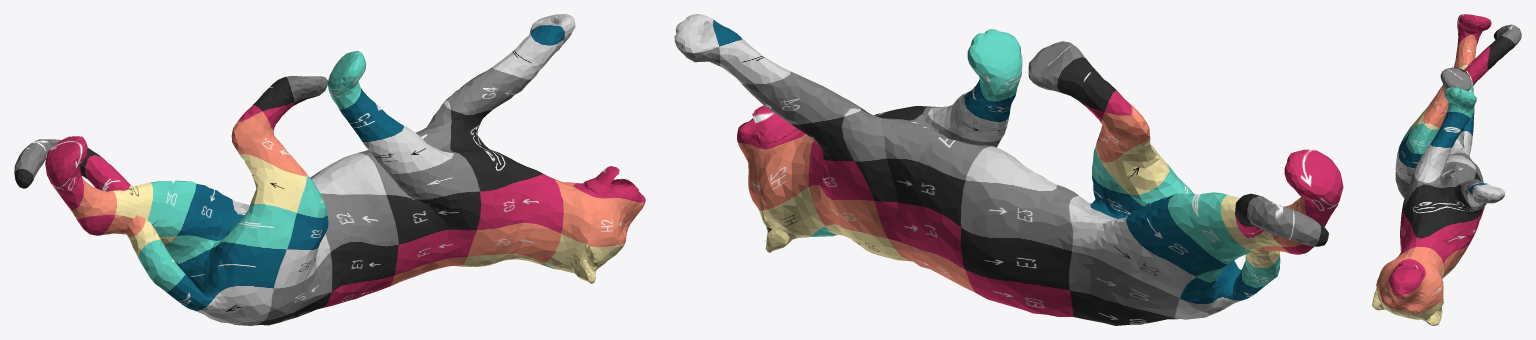
The model's file is cougar_02-cougar_03.obj.
3 views of the same model, side by side, from view 1: azimuth 30°, elevation 25°; view 2: azimuth 150°, elevation 25°; view 3: azimuth 270°, elevation 25° (orthographic). The views are drawn at different scales.
Parts seen in each view (by area): view 1: cougar_02-cougar_03_export; view 2: cougar_02-cougar_03_export; view 3: cougar_02-cougar_03_export.
Part boxes in pixels (bbox=[...]): cougar_02-cougar_03_export: bbox=[14, 14, 645, 325]; cougar_02-cougar_03_export: bbox=[674, 14, 1343, 325]; cougar_02-cougar_03_export: bbox=[1372, 14, 1521, 325].
Size of the model in its own units: 1.19 by 0.4973 by 0.3967.
